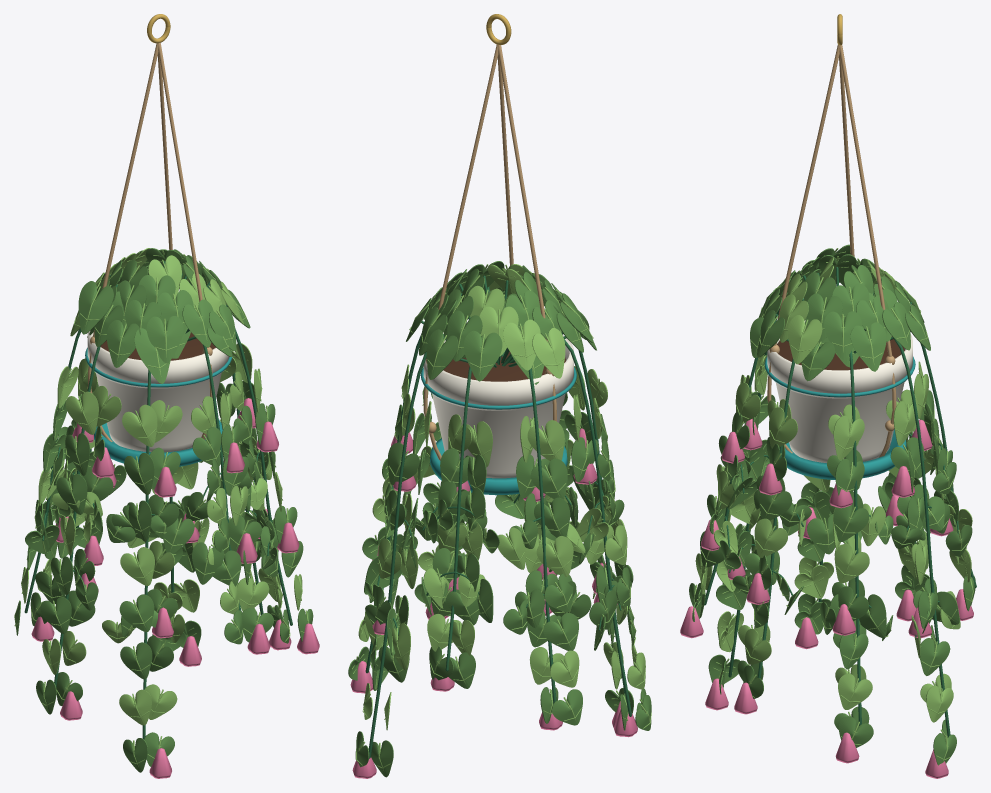
Rendered from hanging_flowered.glb.
The picture shows the model from 3 angles, left to right: view 1: azimuth 30°, elevation 25°; view 2: azimuth 150°, elevation 25°; view 3: azimuth 270°, elevation 25°; orthographic projection. The views are drawn at different scales.
Parts seen in each view (by area): view 1: Hollow_ceramic_pot, Cream_pot_collar, Macrame_suspension_cord.002, Broad_shaped_leaf.226, Broad_shaped_leaf.026, Macrame_suspension_cord, Broad_shaped_leaf.031, Broad_shaped_leaf.144, Saucer, Broad_shaped_leaf.128, Broad_shaped_leaf.229, Broad_shaped_leaf.150 (+45 smaller); view 2: Hollow_ceramic_pot, Cream_pot_collar, Distinct_flowering_trail.003, Macrame_suspension_cord.001, Macrame_suspension_cord.002, Distinct_flowering_trail.006, Broad_shaped_leaf.025, Distinct_flowering_trail.005, Broad_shaped_leaf.020, Broad_shaped_leaf.028, Distinct_flowering_trail.004, Broad_shaped_leaf.030 (+48 smaller); view 3: Hollow_ceramic_pot, Cream_pot_collar, Macrame_suspension_cord.001, Saucer, Macrame_suspension_cord, Distinct_flowering_trail.003, Broad_shaped_leaf.027, Broad_shaped_leaf.024, Broad_shaped_leaf.019, Broad_shaped_leaf.071, Broad_shaped_leaf.069, Broad_shaped_leaf.065 (+42 smaller).
Part boxes in pixels (x1,y1,x2,y2): Hollow_ceramic_pot: [91, 332, 221, 452]; Cream_pot_collar: [87, 331, 229, 388]; Macrame_suspension_cord.002: [87, 43, 158, 441]; Broad_shaped_leaf.226: [78, 281, 113, 334]; Broad_shaped_leaf.026: [146, 316, 183, 363]; Macrame_suspension_cord: [158, 43, 213, 439]; Broad_shaped_leaf.031: [106, 320, 140, 367]; Broad_shaped_leaf.144: [122, 404, 157, 446]; Saucer: [94, 419, 222, 466]; Broad_shaped_leaf.128: [65, 391, 98, 434]; Broad_shaped_leaf.229: [134, 328, 170, 383]; Broad_shaped_leaf.150: [120, 547, 154, 585]; Hollow_ceramic_pot: [432, 333, 570, 478]; Cream_pot_collar: [423, 323, 573, 410]; Distinct_flowering_trail.003: [368, 352, 426, 758]; Macrame_suspension_cord.001: [423, 44, 498, 460]; Macrame_suspension_cord.002: [498, 45, 556, 421]; Distinct_flowering_trail.006: [509, 339, 631, 716]; Broad_shaped_leaf.025: [464, 330, 502, 381]; Distinct_flowering_trail.005: [504, 354, 556, 703]; Broad_shaped_leaf.020: [503, 319, 540, 370]; Broad_shaped_leaf.028: [532, 328, 565, 378]; Distinct_flowering_trail.004: [445, 364, 495, 671]; Broad_shaped_leaf.030: [426, 329, 458, 379]; Hollow_ceramic_pot: [775, 320, 911, 462]; Cream_pot_collar: [767, 334, 912, 398]; Macrame_suspension_cord.001: [839, 44, 896, 457]; Saucer: [785, 429, 906, 479]; Macrame_suspension_cord: [767, 45, 839, 453]; Distinct_flowering_trail.003: [892, 336, 950, 737]; Broad_shaped_leaf.027: [850, 322, 886, 371]; Broad_shaped_leaf.024: [788, 315, 822, 364]; Broad_shaped_leaf.019: [824, 311, 861, 359]; Broad_shaped_leaf.071: [834, 543, 869, 583]; Broad_shaped_leaf.069: [833, 505, 869, 541]; Broad_shaped_leaf.065: [833, 415, 864, 459].
Size of the model in its own units: 0.4809 by 1.22 by 0.4557.
